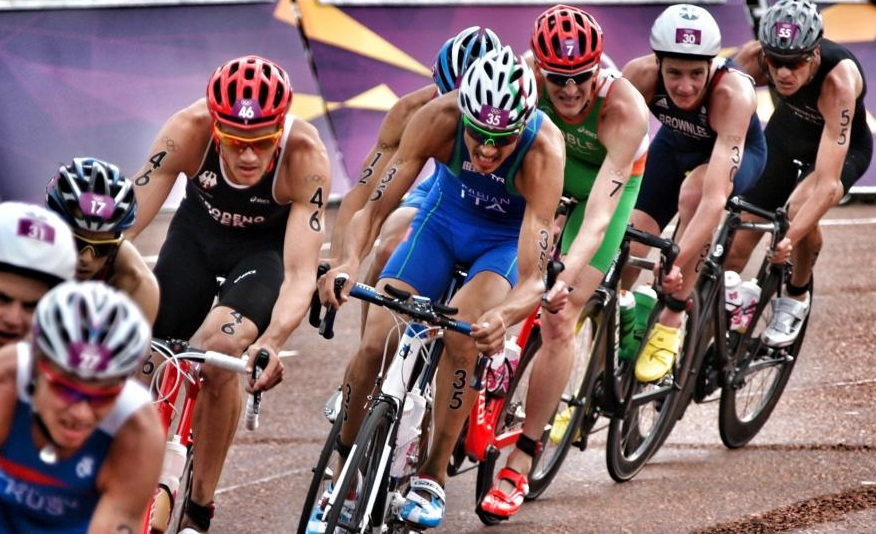helmet: (39, 280, 146, 368), (47, 159, 133, 237), (205, 55, 291, 130), (460, 51, 531, 131), (0, 199, 74, 271), (530, 4, 605, 69), (759, 1, 821, 57), (646, 7, 715, 53)
